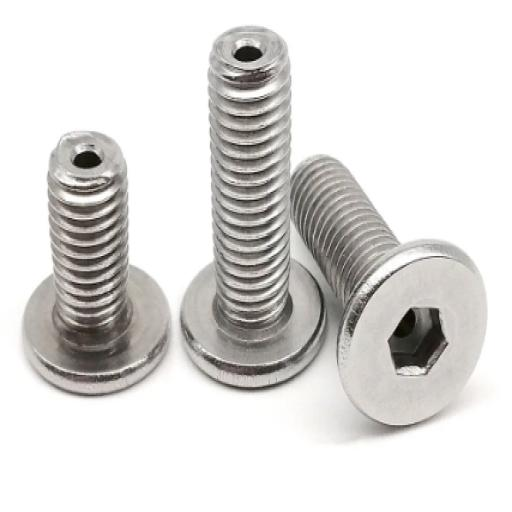Hex-Allen: (338, 245, 487, 432)
